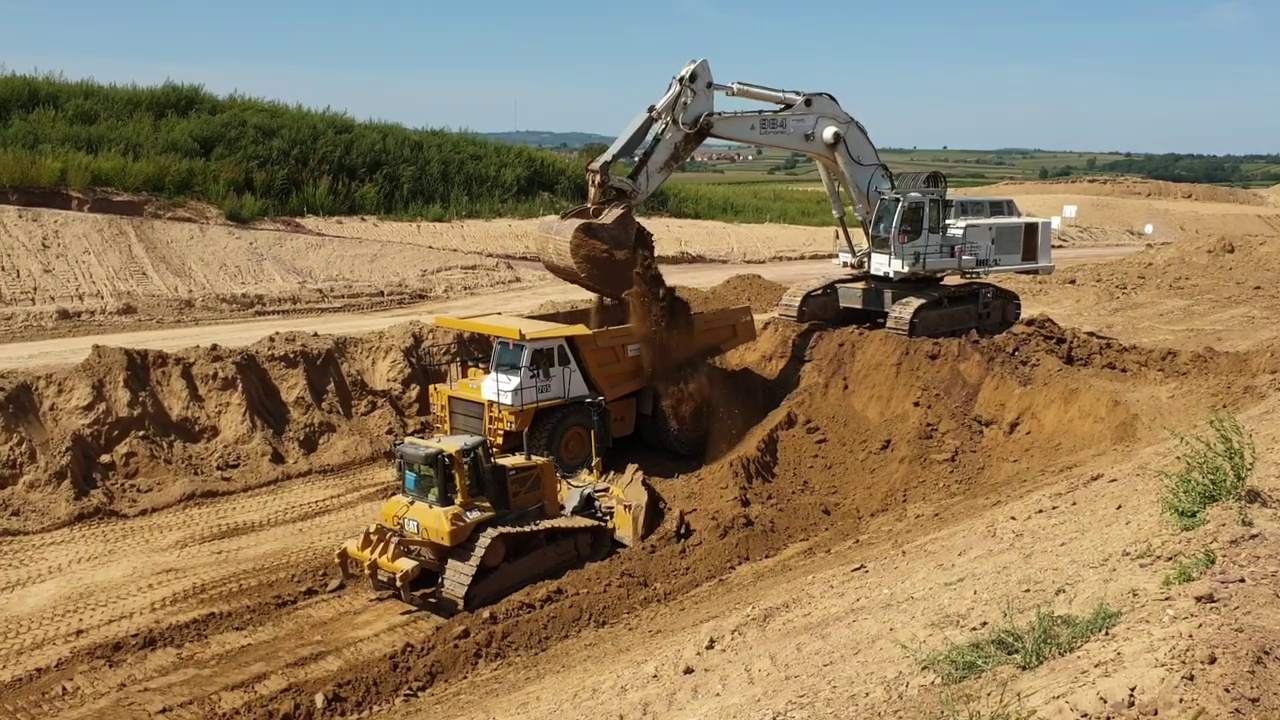bulldozer: (330, 392, 670, 626)
excavator: (528, 50, 1061, 350)
truck: (404, 290, 764, 496)
